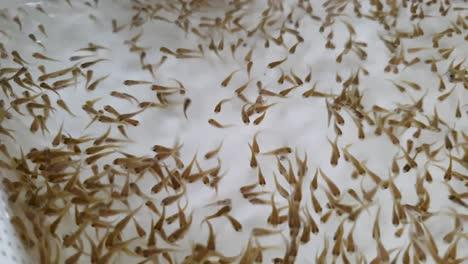fish: (215, 64, 246, 92), (209, 95, 236, 119)
